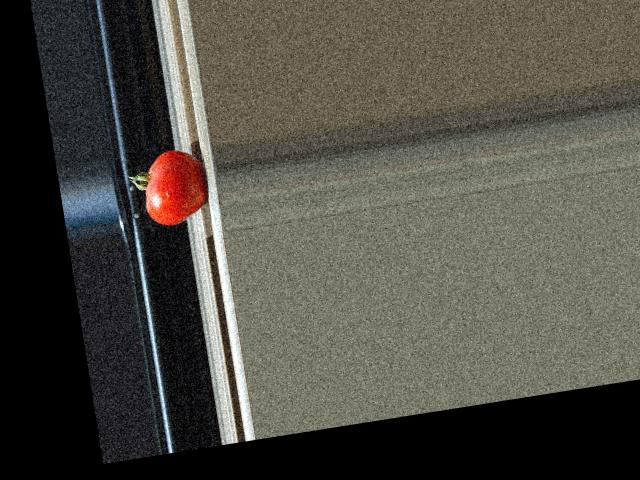tomato: (125, 146, 210, 229)
